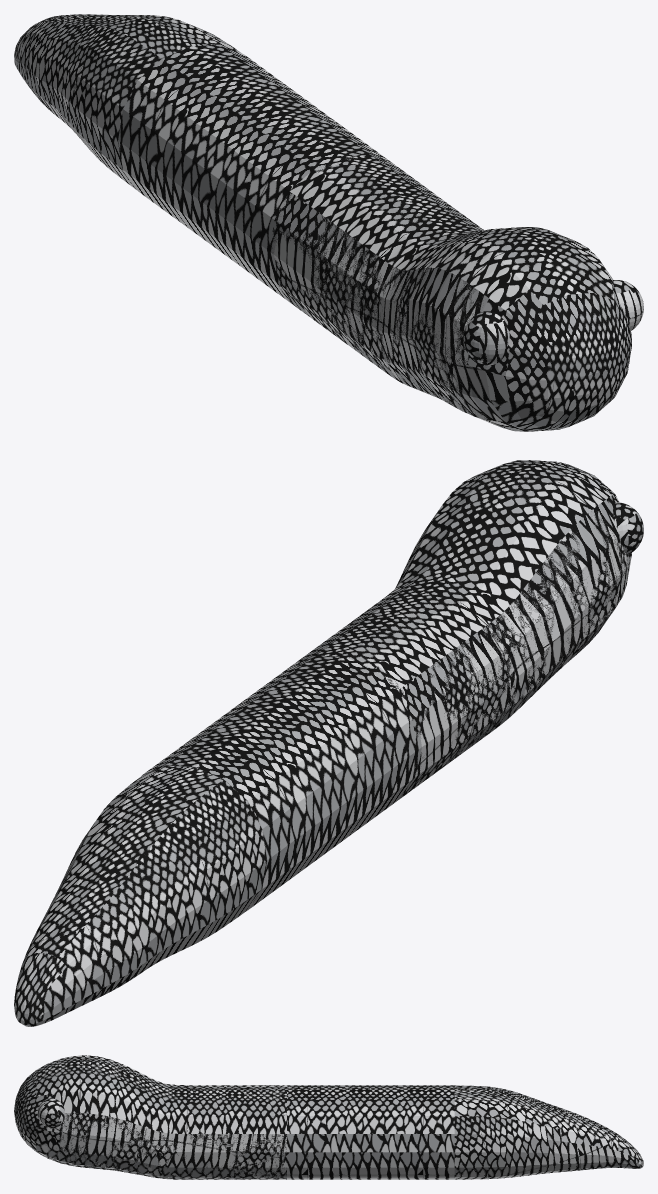
File: snake_whole.gltf
3 views of the same model, one above another, from view 1: azimuth 30°, elevation 25°; view 2: azimuth 150°, elevation 25°; view 3: azimuth 270°, elevation 25° (orthographic). The views are drawn at different scales.
Parts seen in each view (by area): view 1: Head, Tail, Body; view 2: Head, Body, Tail; view 3: Head, Tail, Body.
Boxes of the visible parts, x1=… form: Head: x1=270, y1=155, x2=643, y2=431; Tail: x1=118, y1=44, x2=394, y2=301; Body: x1=14, y1=14, x2=241, y2=189; Head: x1=293, y1=460, x2=643, y2=799; Body: x1=14, y1=765, x2=266, y2=1026; Tail: x1=142, y1=655, x2=421, y2=910; Head: x1=14, y1=1055, x2=286, y2=1179; Tail: x1=282, y1=1085, x2=454, y2=1179; Body: x1=454, y1=1085, x2=643, y2=1179.
Size of the model in its own units: 5.56 by 6.27 by 31.53.
3 materials, 3 textured.
